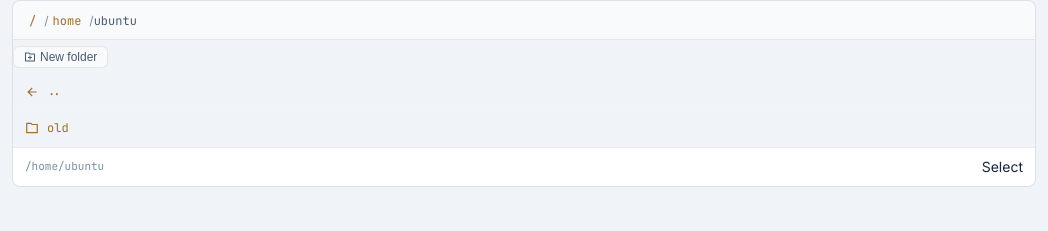
Test case: FilePicker — creating a folder on the server › shows the server’s reason when it cannot create the folder, and keeps the box open
Click the button "New folder": point(61, 57) [13,46,108,68]
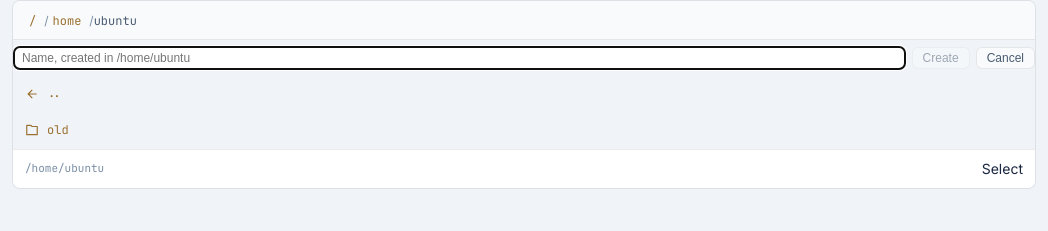
In the field named "New folder name": point(459, 58) [13,46,906,70], type "old"
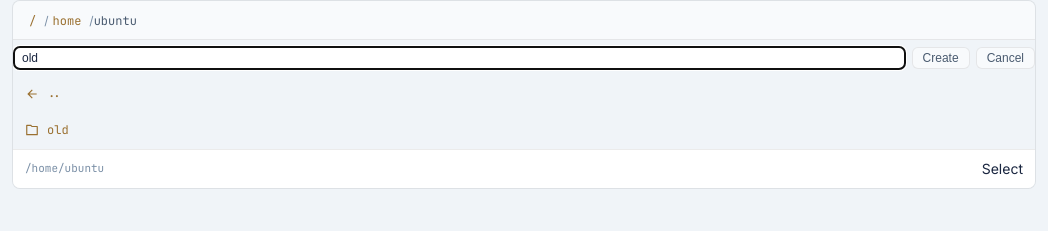
Click the button "Create": point(941, 58) [912,47,970,69]
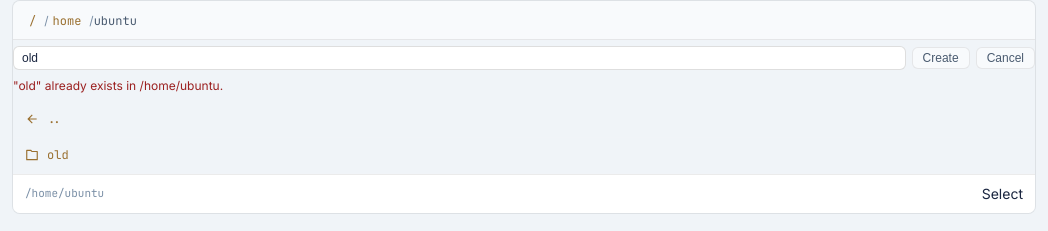
Now the text "\"old\" already exists in /home/ubuntu." is shown, box [13,78,223,93]
